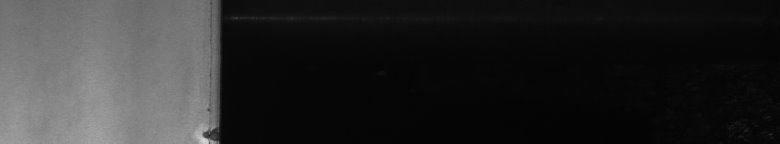hb: (195, 124, 208, 136)
